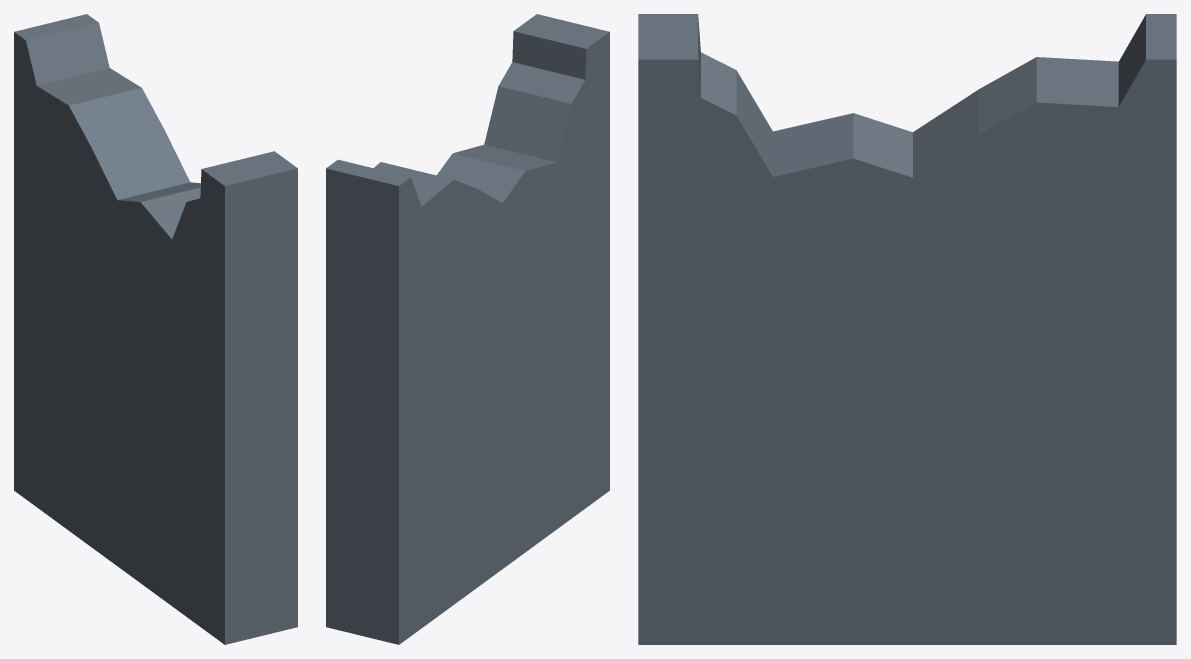
The model's file is Wall_D_2_1.fbx.
3 renders of one model, left to right at view 1: azimuth 30°, elevation 25°; view 2: azimuth 150°, elevation 25°; view 3: azimuth 270°, elevation 25°, orthographic. The views are drawn at different scales.
Parts seen in each view (by area): view 1: Wall_D_2_1; view 2: Wall_D_2_1; view 3: Wall_D_2_1.
Boxes of the visible parts, left/top/right/bottom form: Wall_D_2_1: left=14, top=14, right=297, bottom=644; Wall_D_2_1: left=326, top=14, right=609, bottom=644; Wall_D_2_1: left=638, top=14, right=1176, bottom=644.
Bounding box in the file's own units: 40 × 240 × 200.
